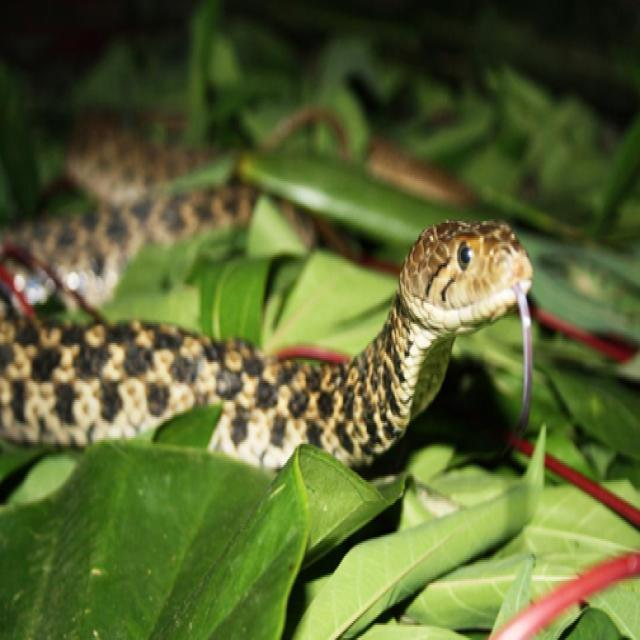Snake: (0, 205, 539, 474)
